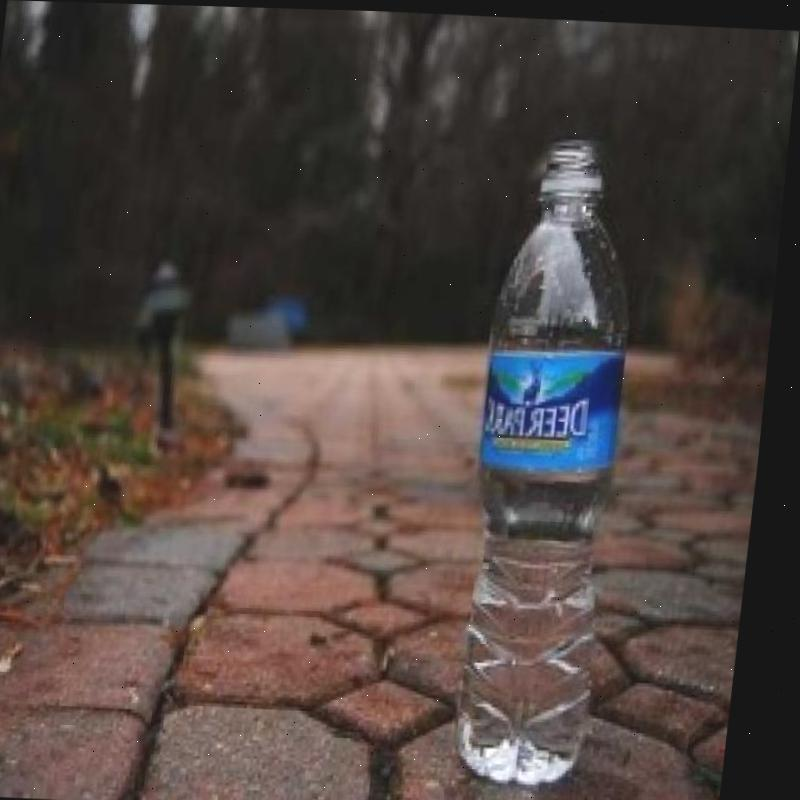botella: (456, 135, 660, 785)
